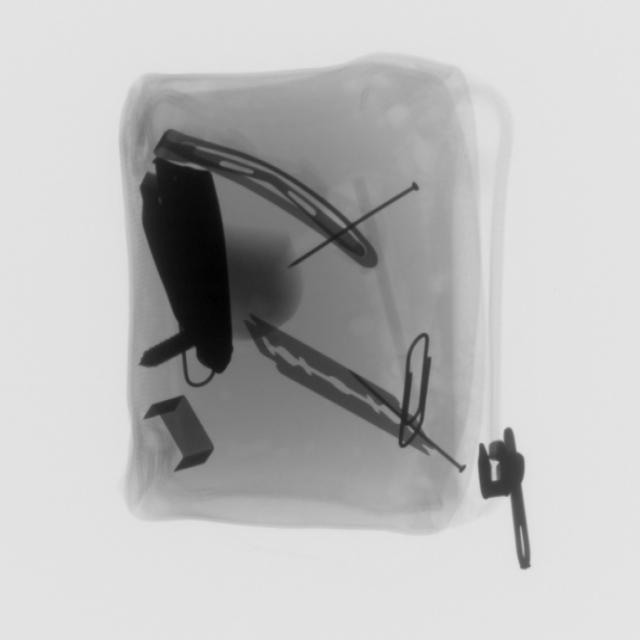BLADE: (242, 320, 422, 443)
